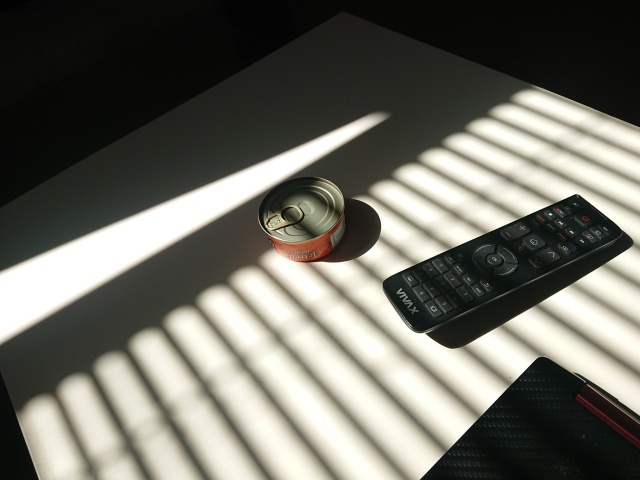Gavrilovic Pork Liver Pate 100g: (255, 173, 348, 264)
